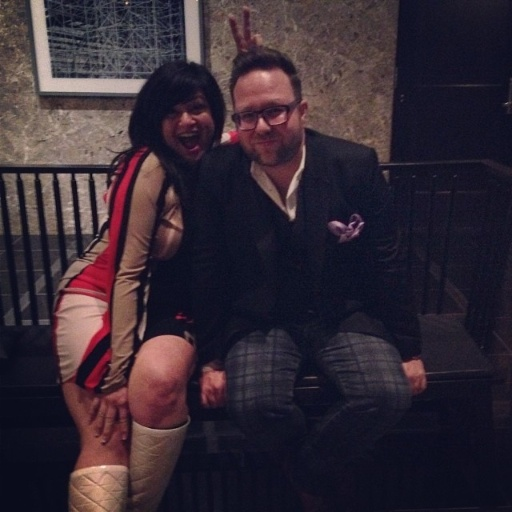hand: (83, 385, 129, 448), (192, 360, 230, 425), (227, 3, 264, 55), (403, 360, 427, 397)
